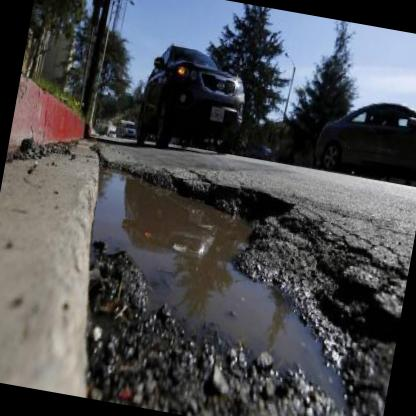pothole: (53, 152, 416, 416)
